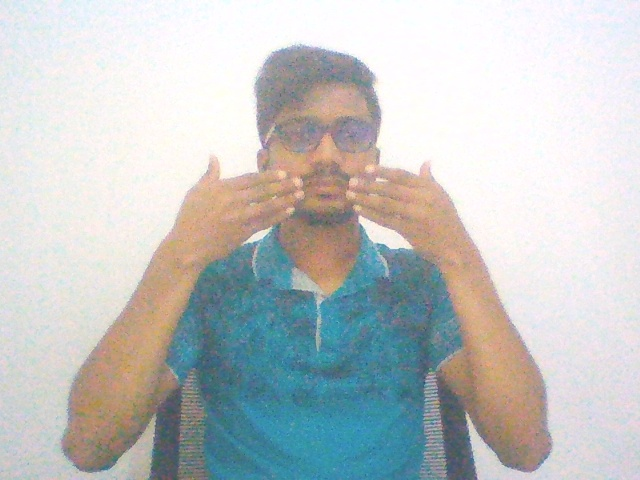cat: (157, 130, 484, 267)
